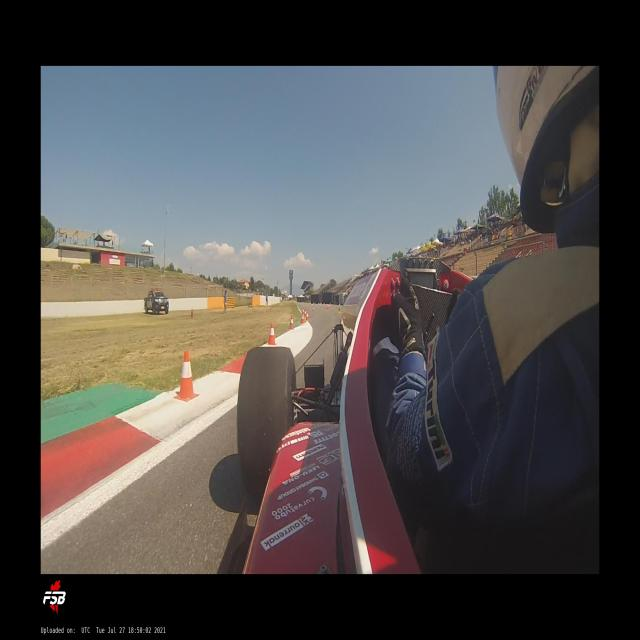orange_cone: (174, 352, 199, 402), (268, 322, 276, 345), (289, 316, 294, 329), (301, 312, 304, 324), (306, 310, 308, 321), (304, 309, 306, 318), (302, 308, 304, 314), (326, 304, 328, 310), (312, 306, 314, 311)
yellow_cone: (338, 305, 342, 313)
